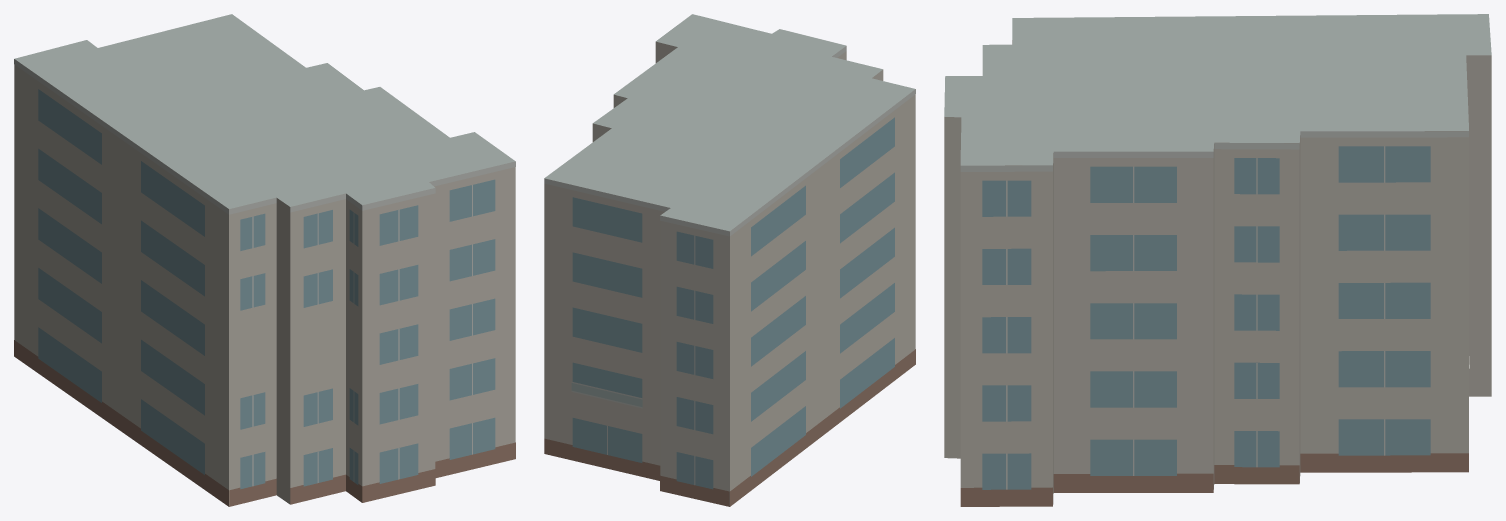
The model's file is survey-upis-32879077.glb.
The picture shows the model from 3 angles, left to right: view 1: azimuth 30°, elevation 25°; view 2: azimuth 150°, elevation 25°; view 3: azimuth 270°, elevation 25°; orthographic projection. The views are drawn at different scales.
Visible parts, largest first — view 1: survey-upis-32879077.tmp; view 2: survey-upis-32879077.tmp; view 3: survey-upis-32879077.tmp.
Boxes of the visible parts, x1,y1,x2,y2 form: survey-upis-32879077.tmp: (14,14,515,506); survey-upis-32879077.tmp: (544,14,915,506); survey-upis-32879077.tmp: (944,14,1491,506).
Bounding box in the file's own units: 12.4 × 13 × 18.91.
